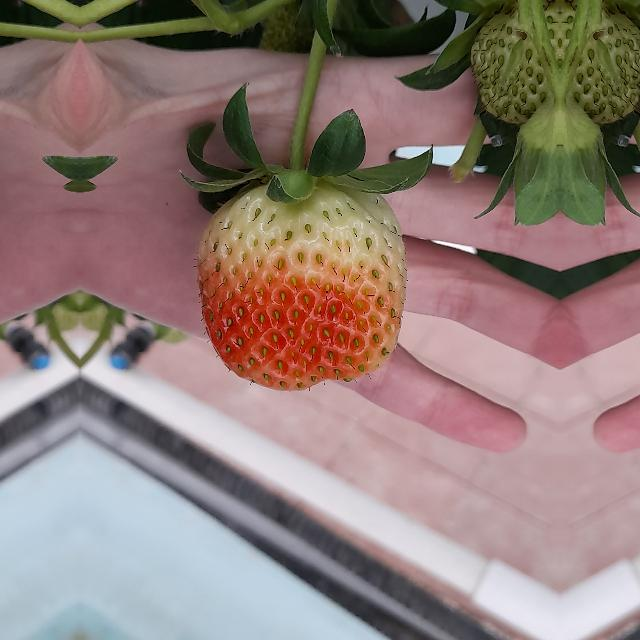Health_25: (468, 0, 560, 136), (560, 0, 640, 136)
Health_75: (196, 177, 408, 391)
